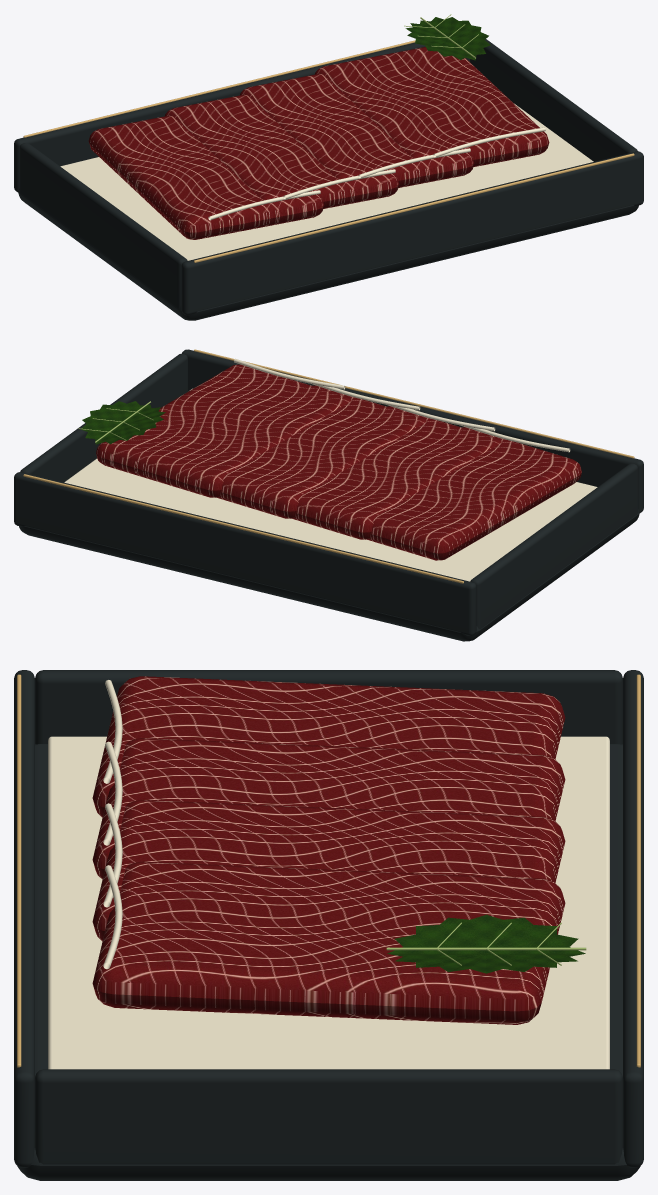
The model's file is 12_Wagyu_Tray.glb.
The picture shows the model from 3 angles, top to bottom: view 1: azimuth 30°, elevation 25°; view 2: azimuth 150°, elevation 25°; view 3: azimuth 270°, elevation 25°; orthographic projection. The views are drawn at different scales.
Parts seen in each view (by area): view 1: SM_Lacquer tray rim.004, SM_Marbled wagyu slice.003, SM_Marbled wagyu slice, SM_Absorbent butcher paper, SM_Marbled wagyu slice.001, SM_Marbled wagyu slice.002, SM_Lacquer tray end.004, SM_Lacquer tray end.005, SM_Lacquer tray base.002, SM_Lacquer tray rim.005, SM_Serrated shiso.006, SM_Gold edge.004 (+5 smaller); view 2: SM_Lacquer tray rim.005, SM_Marbled wagyu slice.003, SM_Marbled wagyu slice, SM_Absorbent butcher paper, SM_Marbled wagyu slice.001, SM_Marbled wagyu slice.002, SM_Lacquer tray end.004, SM_Lacquer tray base.002, SM_Lacquer tray rim.004, SM_Lacquer tray end.005, SM_Serrated shiso.006, SM_Gold edge.005 (+5 smaller); view 3: SM_Absorbent butcher paper, SM_Marbled wagyu slice.003, SM_Lacquer tray end.005, SM_Marbled wagyu slice, SM_Marbled wagyu slice.001, SM_Marbled wagyu slice.002, SM_Lacquer tray base.002, SM_Lacquer tray end.004, SM_Lacquer tray rim.004, SM_Lacquer tray rim.005, SM_Serrated shiso.006, SM_Gold edge.004 (+6 smaller).
Boxes of the visible parts, bbox=[...] form: SM_Lacquer tray rim.004: bbox=[181, 151, 643, 315]; SM_Marbled wagyu slice.003: bbox=[315, 47, 549, 166]; SM_Marbled wagyu slice: bbox=[88, 115, 324, 239]; SM_Absorbent butcher paper: bbox=[60, 103, 593, 260]; SM_Marbled wagyu slice.001: bbox=[165, 94, 399, 208]; SM_Marbled wagyu slice.002: bbox=[240, 74, 474, 187]; SM_Lacquer tray end.004: bbox=[19, 143, 187, 308]; SM_Lacquer tray end.005: bbox=[470, 39, 637, 161]; SM_Lacquer tray base.002: bbox=[18, 188, 638, 320]; SM_Lacquer tray rim.005: bbox=[14, 42, 469, 192]; SM_Serrated shiso.006: bbox=[405, 17, 490, 60]; SM_Gold edge.004: bbox=[194, 153, 634, 262]; SM_Lacquer tray rim.005: bbox=[14, 472, 476, 635]; SM_Marbled wagyu slice.003: bbox=[96, 364, 351, 497]; SM_Marbled wagyu slice: bbox=[366, 427, 581, 560]; SM_Absorbent butcher paper: bbox=[64, 388, 597, 581]; SM_Marbled wagyu slice.001: bbox=[291, 406, 501, 539]; SM_Marbled wagyu slice.002: bbox=[217, 385, 426, 518]; SM_Lacquer tray end.004: bbox=[470, 463, 638, 628]; SM_Lacquer tray base.002: bbox=[19, 509, 639, 641]; SM_Lacquer tray rim.004: bbox=[182, 349, 643, 512]; SM_Lacquer tray end.005: bbox=[20, 353, 187, 482]; SM_Serrated shiso.006: bbox=[80, 401, 165, 444]; SM_Gold edge.005: bbox=[23, 474, 463, 583]; SM_Absorbent butcher paper: bbox=[48, 736, 609, 1069]; SM_Marbled wagyu slice.003: bbox=[92, 861, 565, 1024]; SM_Lacquer tray end.005: bbox=[35, 1069, 622, 1164]; SM_Marbled wagyu slice: bbox=[92, 676, 565, 817]; SM_Marbled wagyu slice.001: bbox=[92, 738, 565, 879]; SM_Marbled wagyu slice.002: bbox=[92, 799, 565, 941]; SM_Lacquer tray base.002: bbox=[17, 744, 640, 1180]; SM_Lacquer tray end.004: bbox=[35, 670, 622, 744]; SM_Lacquer tray rim.004: bbox=[14, 670, 34, 1167]; SM_Lacquer tray rim.005: bbox=[623, 670, 643, 1167]; SM_Serrated shiso.006: bbox=[387, 914, 585, 973]; SM_Gold edge.004: bbox=[17, 674, 21, 1067].
Size of the model in its own units: 0.184 by 0.0391 by 0.12.
Materials: 6 (2 with a texture image).
